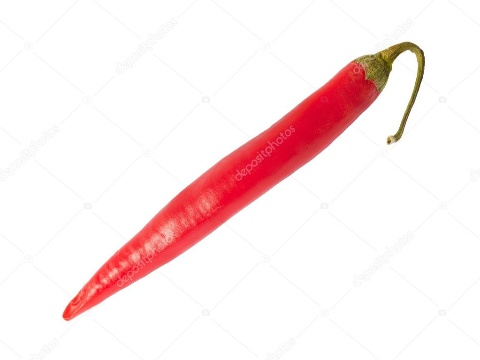Chilli: (41, 27, 444, 330)
